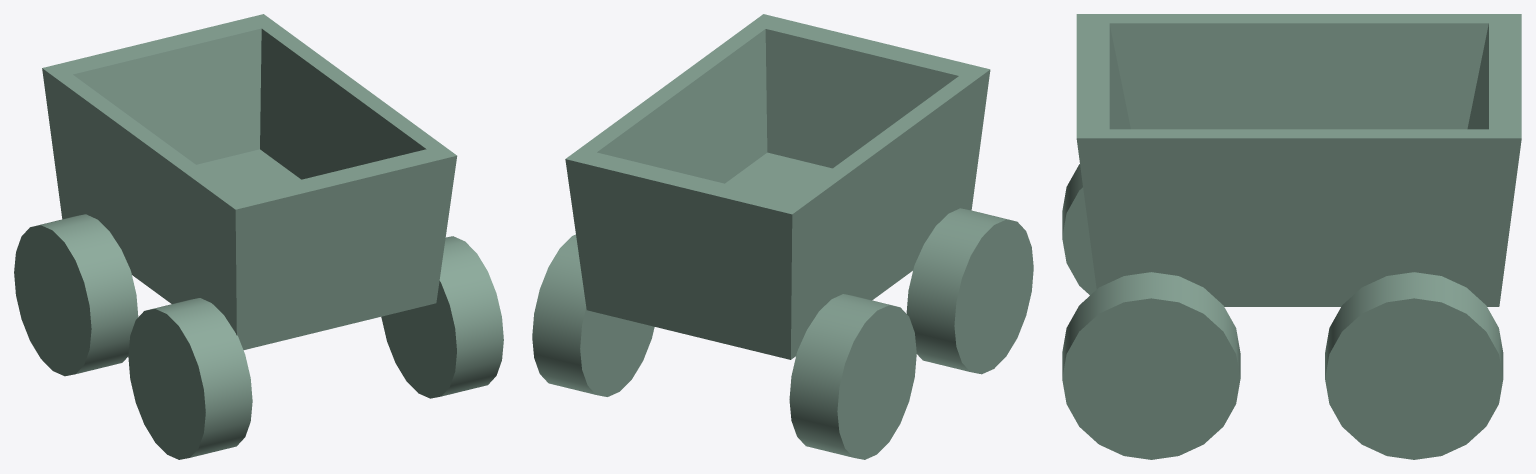
The model's file is Obj_vid_23_Vagoneta2_low_poly.fbx.
3 views of the same model, side by side, from view 1: azimuth 30°, elevation 25°; view 2: azimuth 150°, elevation 25°; view 3: azimuth 270°, elevation 25° (orthographic). The views are drawn at different scales.
Visible parts, largest first — view 1: Obj_vid_23_Vagoneta2_low_poly; view 2: Obj_vid_23_Vagoneta2_low_poly; view 3: Obj_vid_23_Vagoneta2_low_poly.
Part boxes in pixels (box(x1,y1,x2,y2)): Obj_vid_23_Vagoneta2_low_poly: box(14, 14, 503, 459); Obj_vid_23_Vagoneta2_low_poly: box(532, 14, 1033, 459); Obj_vid_23_Vagoneta2_low_poly: box(1062, 14, 1521, 459).
Size of the model in its own units: 0.1967 by 0.1639 by 0.2284.
